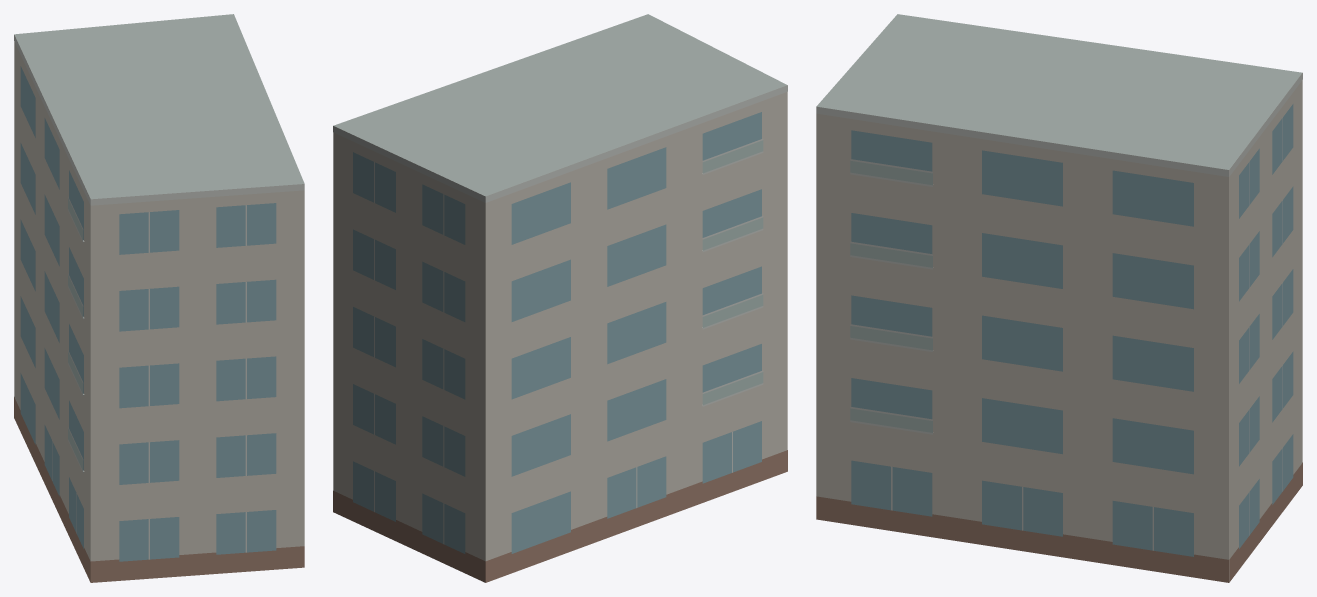
The model's file is survey-upis-32894359.glb.
3 views of the same model, side by side, from view 1: azimuth 30°, elevation 25°; view 2: azimuth 150°, elevation 25°; view 3: azimuth 270°, elevation 25° (orthographic). The views are drawn at different scales.
Visible parts, largest first — view 1: survey-upis-32894359.tmp; view 2: survey-upis-32894359.tmp; view 3: survey-upis-32894359.tmp.
Part boxes in pixels (x1,y1,x2,y2): survey-upis-32894359.tmp: (14,14,304,582); survey-upis-32894359.tmp: (333,14,787,582); survey-upis-32894359.tmp: (816,14,1302,582).
Bounding box in the file's own units: 11.77 × 14.5 × 15.49.
